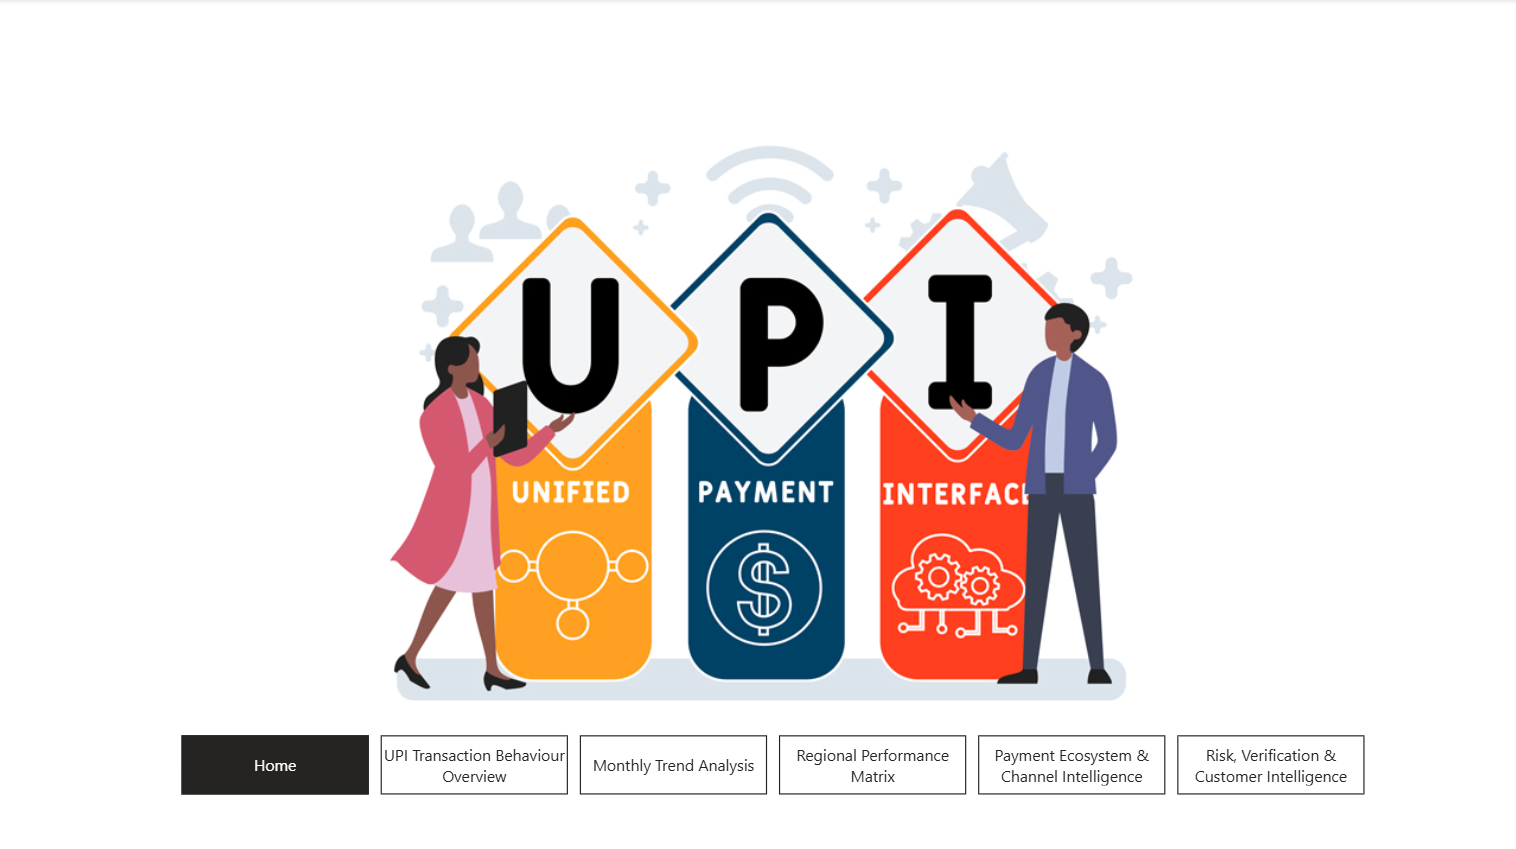

The page's visual inventory and layout, read from the dashboard file:
{"tool":"powerbi","page":{"name":"Home","canvas":[1280,720],"ordinal":0},"visuals":[{"type":"pageNavigator","box":[154.3,621.4,1000,50],"z":1}]}

Visuals, with their boxes in screenshot pixels (x1, y1, x2, y2), scaled from the page's 1280x720 canvas onto the 1516x849 screenshot:
pageNavigator: (183, 733, 1367, 792)
